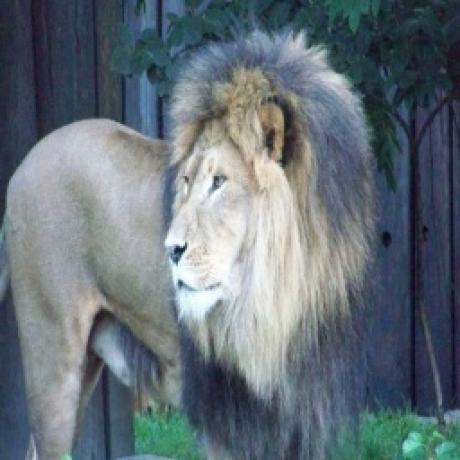Lion: (0, 24, 388, 460)
